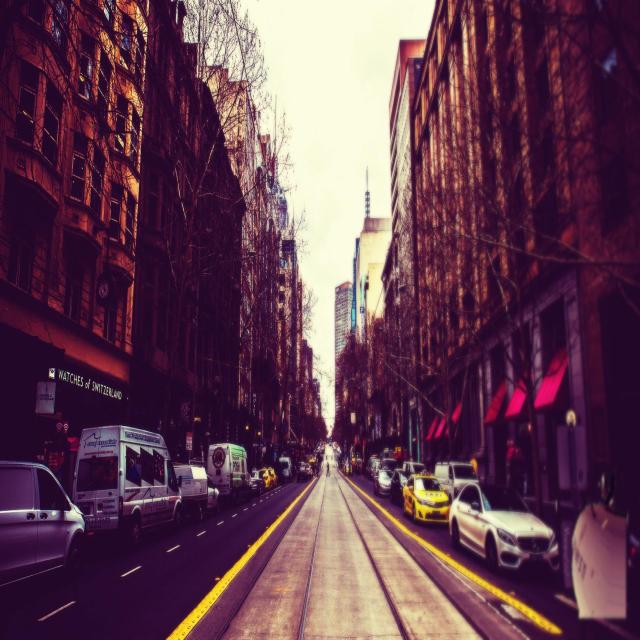airplane: (571, 500, 627, 618)
